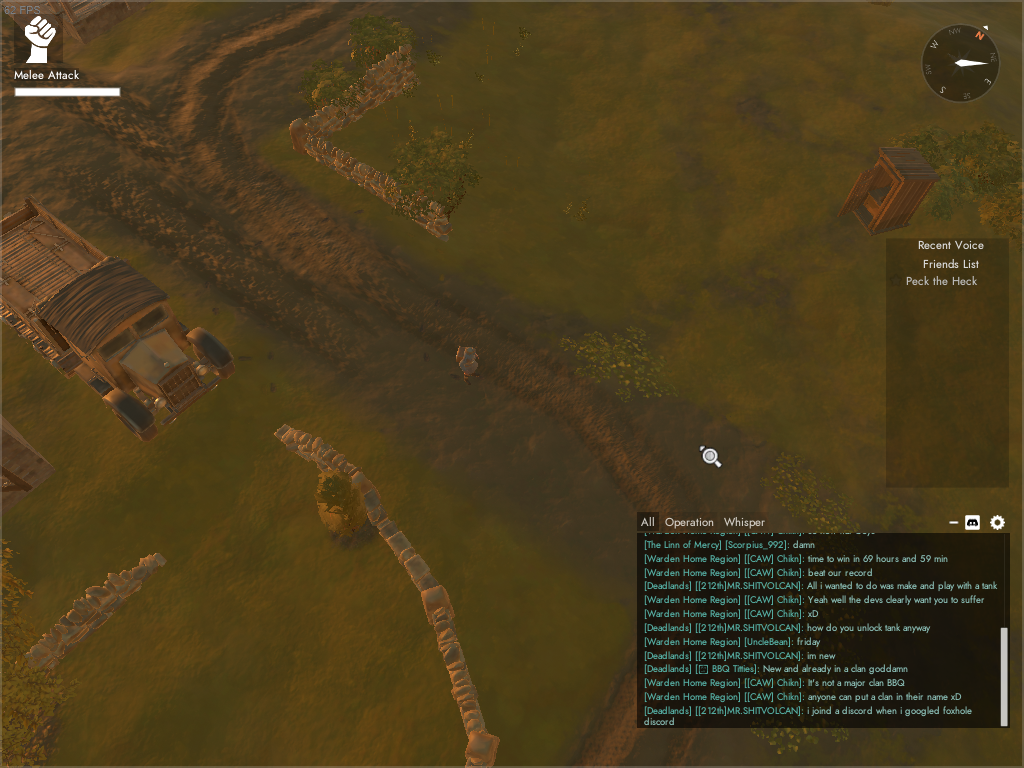flatbed: (1, 192, 239, 447)
player: (451, 341, 484, 389)
